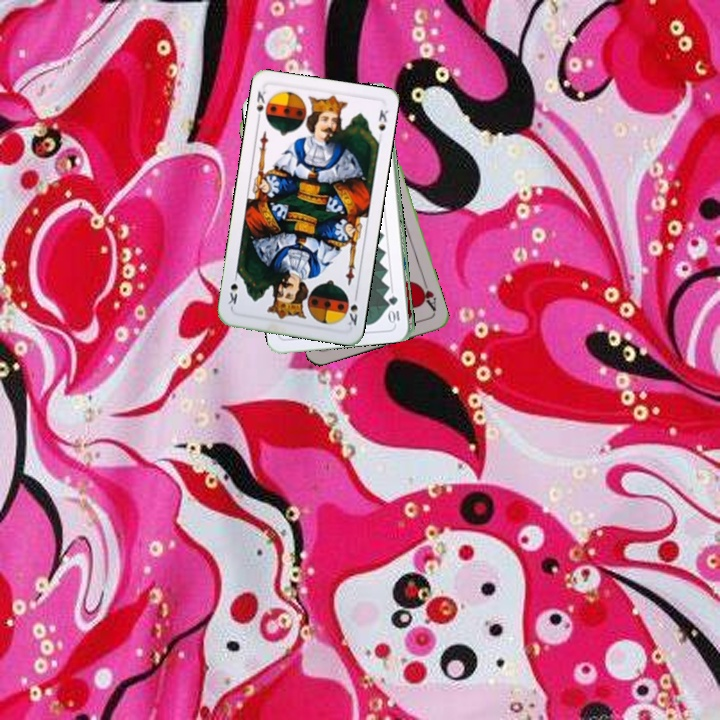G10: (387, 291, 402, 326)
HA: (414, 275, 439, 314)
SK: (252, 87, 269, 124), (344, 289, 360, 328)
